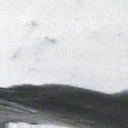crackTip: (1, 83, 128, 127)
